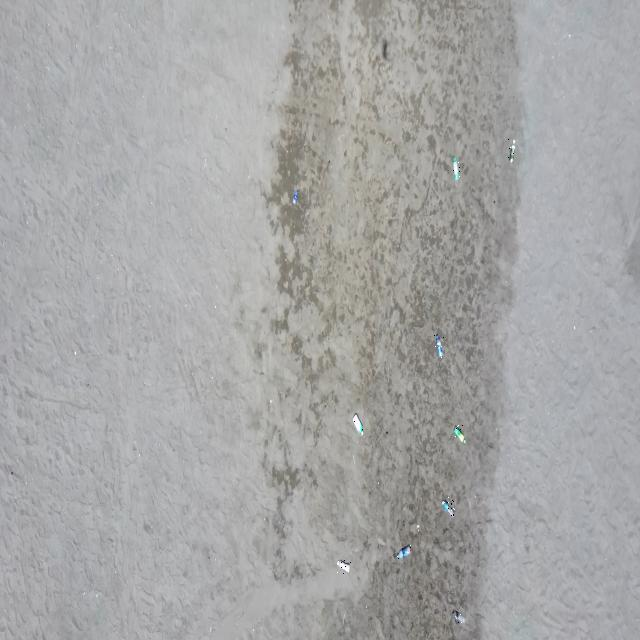Garbage: (352, 413, 363, 435), (440, 497, 453, 515), (452, 424, 464, 443), (433, 333, 442, 357), (452, 156, 460, 180), (395, 544, 409, 557), (507, 139, 515, 161), (336, 560, 350, 572), (452, 609, 463, 623), (382, 40, 387, 59), (292, 190, 298, 203)
